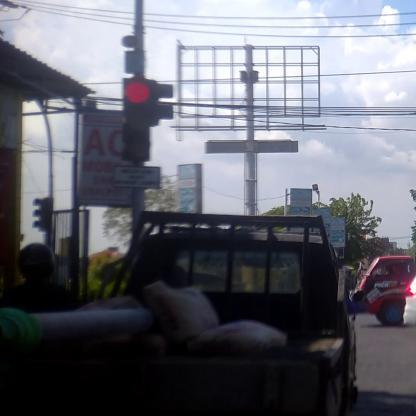red: (122, 78, 150, 162)
